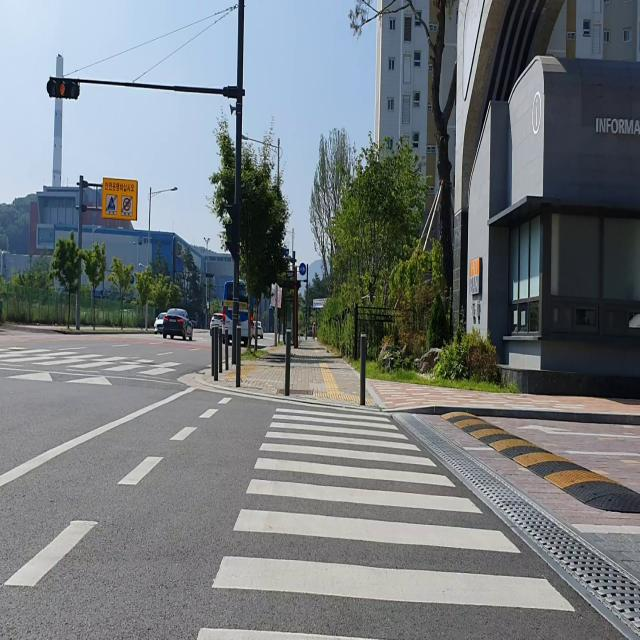횡단보도: (193, 402, 577, 640), (0, 343, 182, 378)
